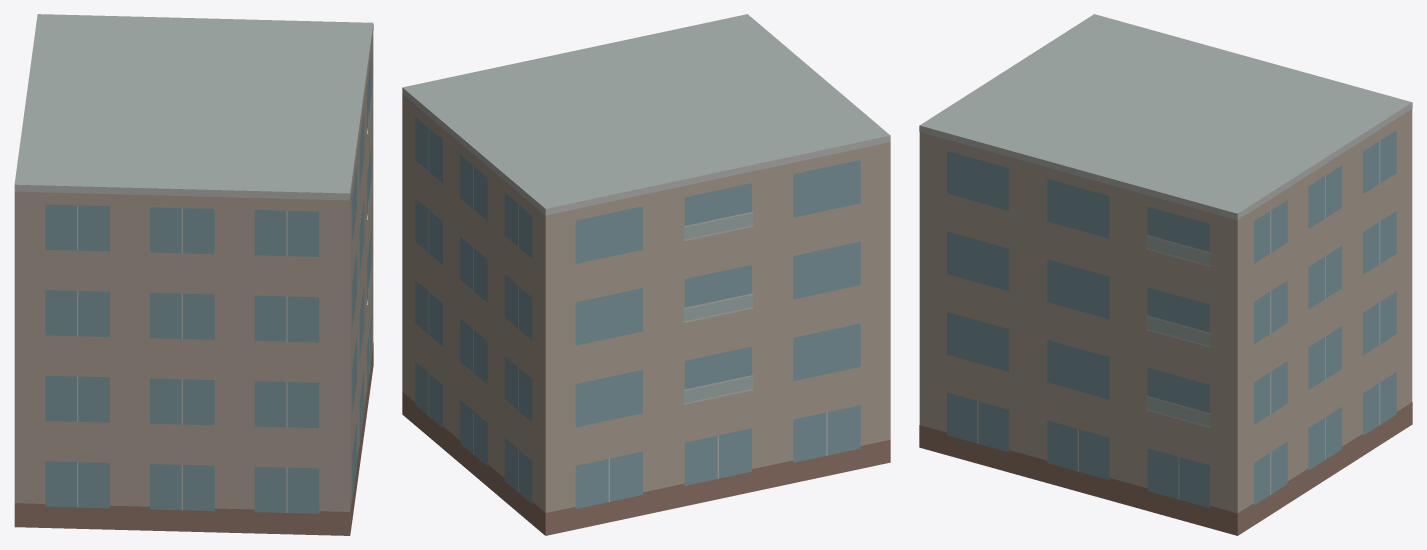
The model's file is survey-upis-32893962.glb.
The picture shows the model from 3 angles, left to right: view 1: azimuth 30°, elevation 25°; view 2: azimuth 150°, elevation 25°; view 3: azimuth 270°, elevation 25°; orthographic projection. The views are drawn at different scales.
Parts seen in each view (by area): view 1: survey-upis-32893962.tmp; view 2: survey-upis-32893962.tmp; view 3: survey-upis-32893962.tmp.
Part boxes in pixels (<box>): survey-upis-32893962.tmp: <box>14,14,373,535</box>; survey-upis-32893962.tmp: <box>402,14,890,535</box>; survey-upis-32893962.tmp: <box>919,14,1412,535</box>.
Size of the model in its own units: 16.24 by 12.2 by 16.93.
